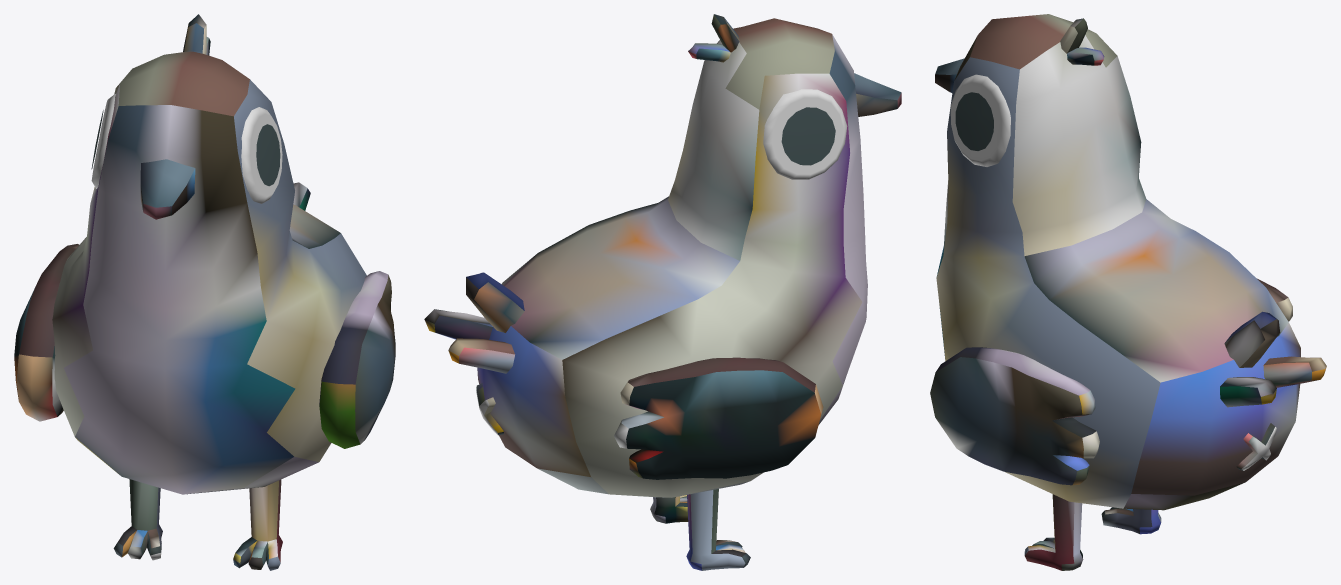
The model's file is Dove.glb.
3 renders of one model, left to right at view 1: azimuth 30°, elevation 25°; view 2: azimuth 150°, elevation 25°; view 3: azimuth 270°, elevation 25°, orthographic. The views are drawn at different scales.
Visible parts, largest first — view 1: 42; view 2: 42; view 3: 42.
Part boxes in pixels (x1,y1,x2,y2): 42: [14, 14, 395, 570]; 42: [424, 14, 901, 570]; 42: [930, 14, 1326, 570].
Size of the model in its own units: 0.5386 by 0.7973 by 0.5517.
